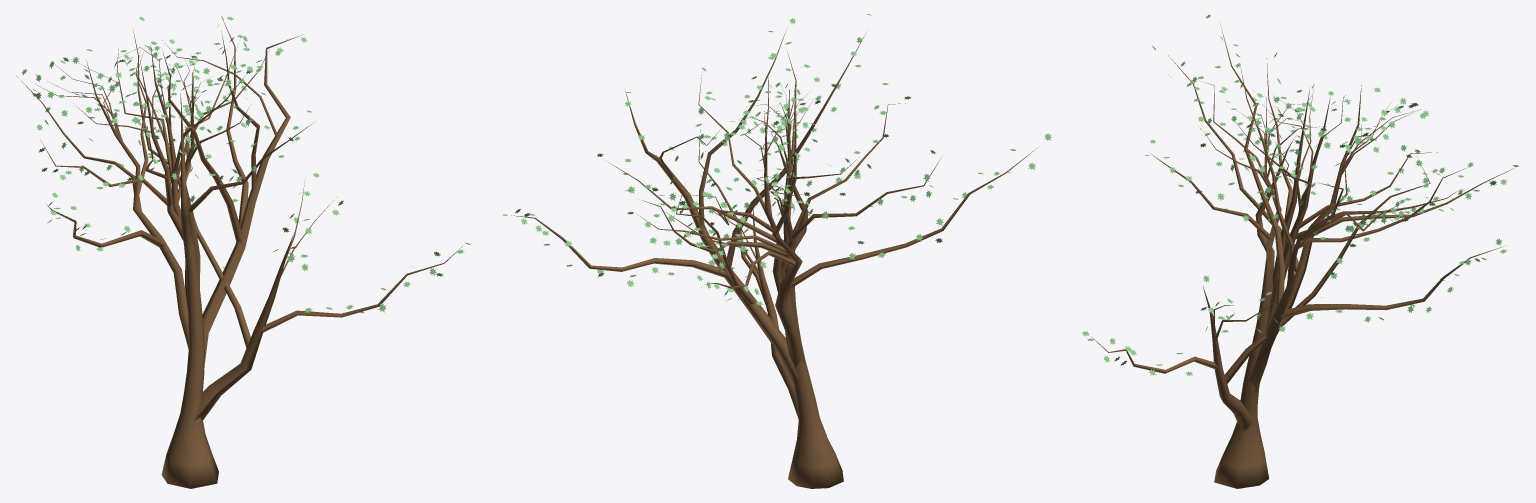
The model's file is acer-palmatum-mature-v2.glb.
3 views of the same model, side by side, from view 1: azimuth 30°, elevation 25°; view 2: azimuth 150°, elevation 25°; view 3: azimuth 270°, elevation 25° (orthographic). The views are drawn at different scales.
Visible parts, largest first — view 1: ToonlabTree; view 2: ToonlabTree; view 3: ToonlabTree.
Boxes of the visible parts, left/top/right/bottom form: ToonlabTree: left=16, top=16, right=470, bottom=488; ToonlabTree: left=502, top=14, right=1051, bottom=488; ToonlabTree: left=1082, top=14, right=1518, bottom=488.
Bounding box in the file's own units: 6.81 × 7.65 × 6.86.
